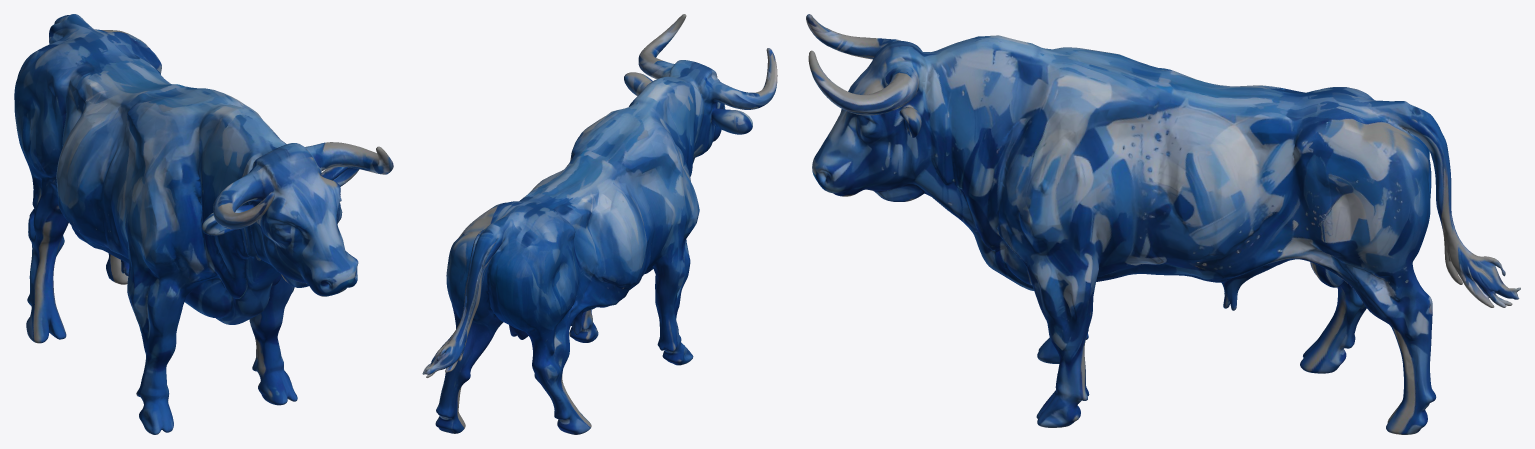
File: toro.glb
3 views of the same model, side by side, from view 1: azimuth 30°, elevation 25°; view 2: azimuth 150°, elevation 25°; view 3: azimuth 270°, elevation 25° (orthographic). The views are drawn at different scales.
Visible parts, largest first — view 1: b48008de-blue_bull_3d_model.glb; view 2: b48008de-blue_bull_3d_model.glb; view 3: b48008de-blue_bull_3d_model.glb.
Boxes of the visible parts, x1,y1,x2,y2 form: b48008de-blue_bull_3d_model.glb: (14,14,393,434); b48008de-blue_bull_3d_model.glb: (422,14,777,434); b48008de-blue_bull_3d_model.glb: (806,14,1520,434).
Bounding box in the file's own units: 1.51 × 2.82 × 5.
1 material, 1 textured.
